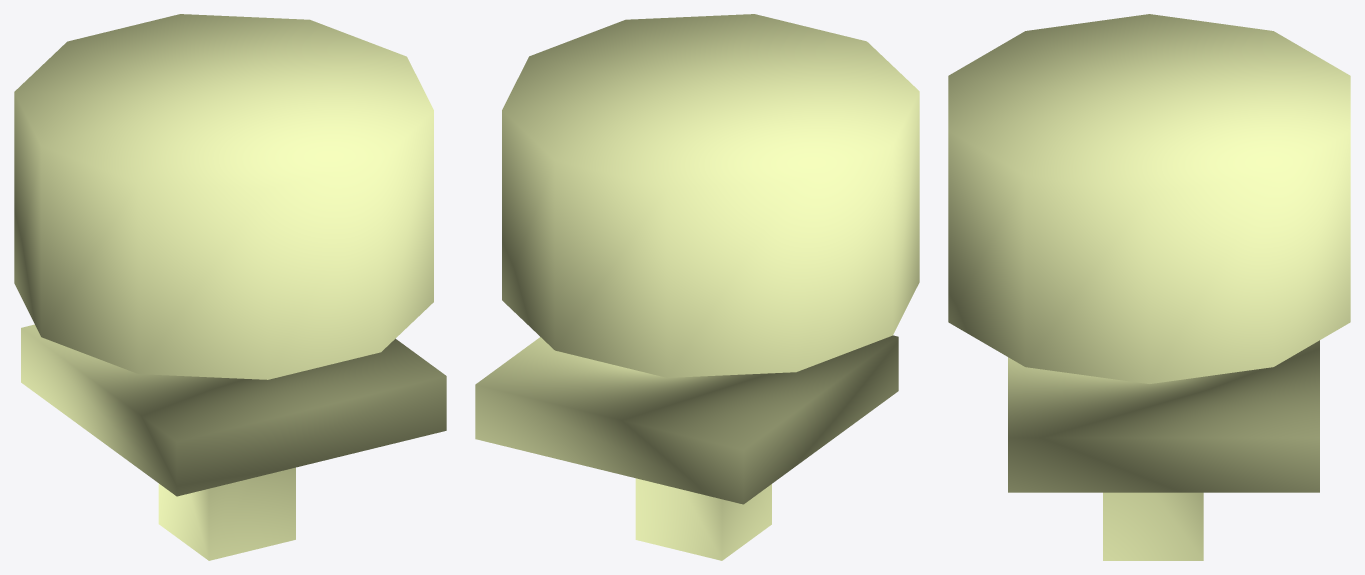
Rendered from ps2_jrpg_ancient_summon_relic_orb.obj.
3 views of the same model, side by side, from view 1: azimuth 30°, elevation 25°; view 2: azimuth 150°, elevation 25°; view 3: azimuth 270°, elevation 25° (orthographic).
Bounding box in the file's own units: 0.84 × 0.9514 × 0.7989.
